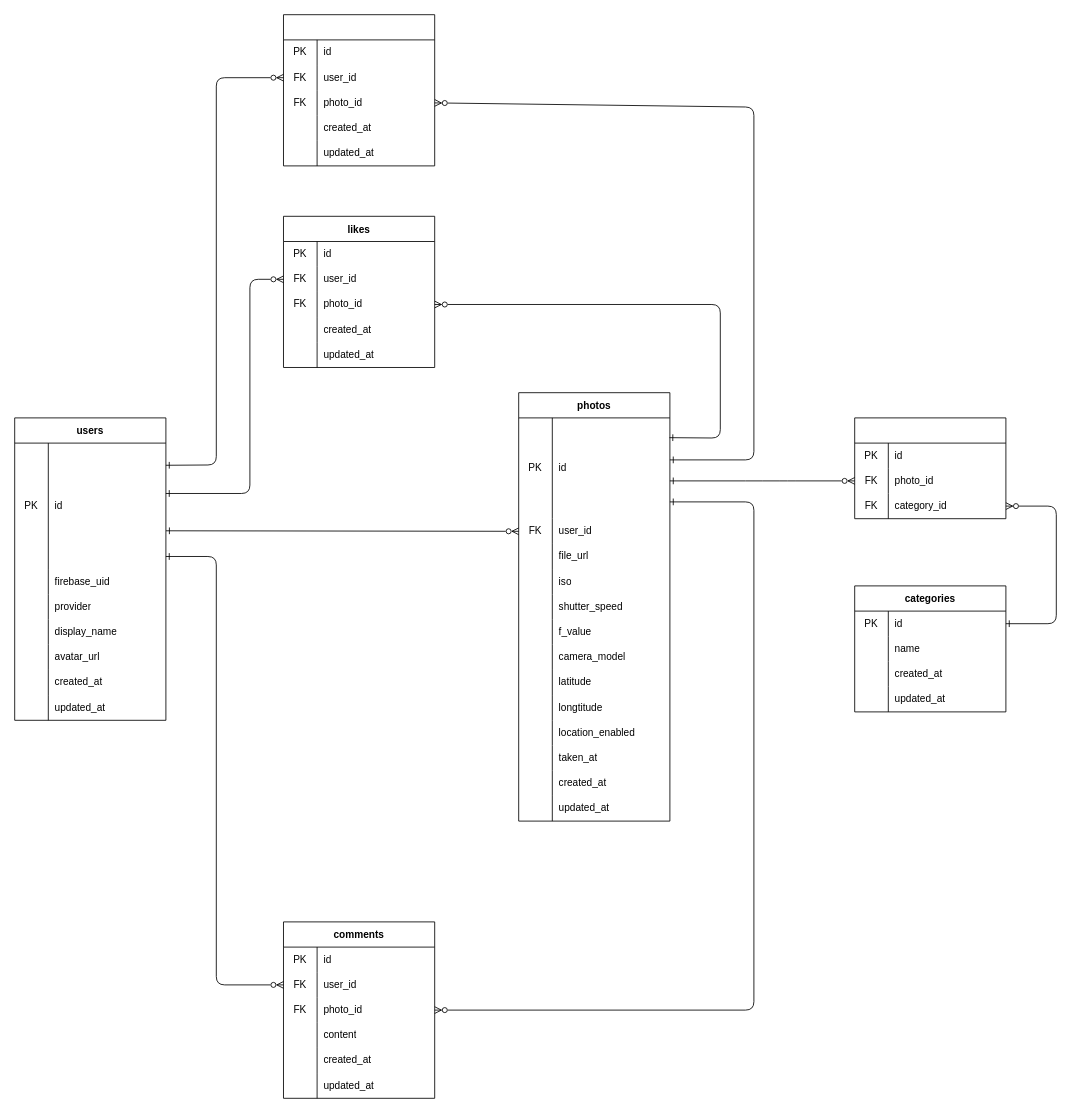
The diagram is 1079 pixels wide and 1113 high, and some of its shapes have lost their labels. The shapes that lost their labels are listed below. From the top down, each one's box as (x1, y1, x2, y2) in pixels, then its label:
(283, 14, 435, 166): favorites
(854, 417, 1006, 519): photo_categories
